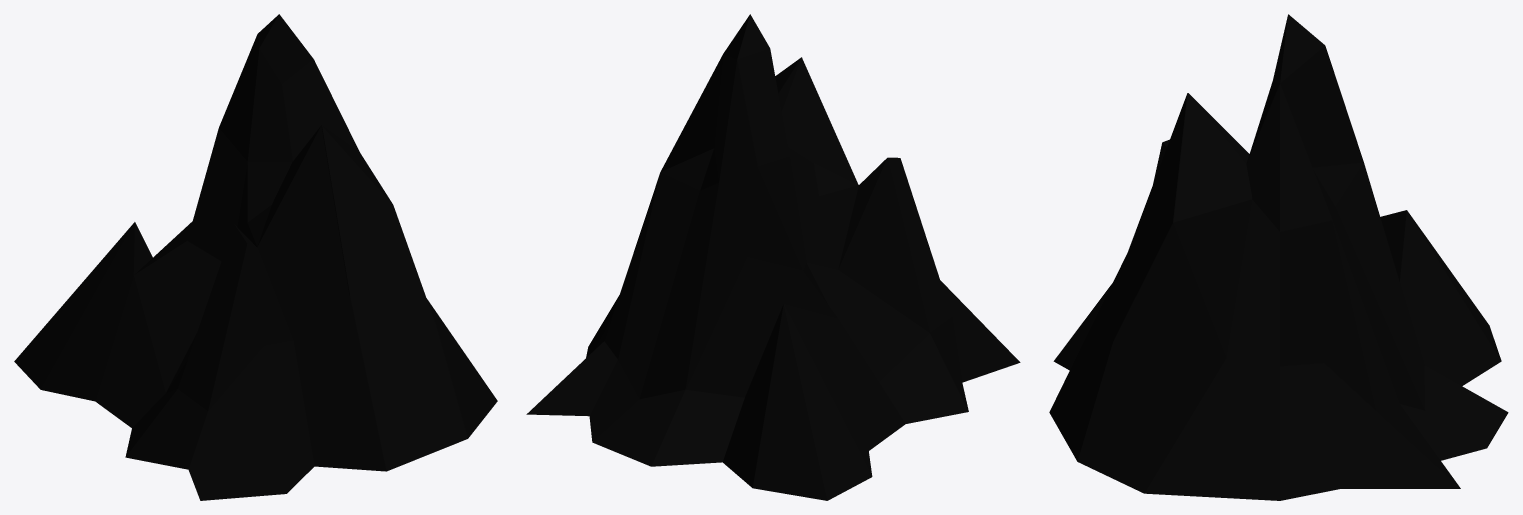
Rendered from Rock02.fbx.
3 views of the same model, side by side, from view 1: azimuth 30°, elevation 25°; view 2: azimuth 150°, elevation 25°; view 3: azimuth 270°, elevation 25° (orthographic). The views are drawn at different scales.
Visible parts, largest first — view 1: Rock02; view 2: Rock02; view 3: Rock02.
Boxes of the visible parts, x1,y1,x2,y2 form: Rock02: (14,14,497,500); Rock02: (526,14,1020,500); Rock02: (1049,14,1508,500).
Size of the model in its own units: 822 by 838 by 871.
Materials: 1 (1 with a texture image).
